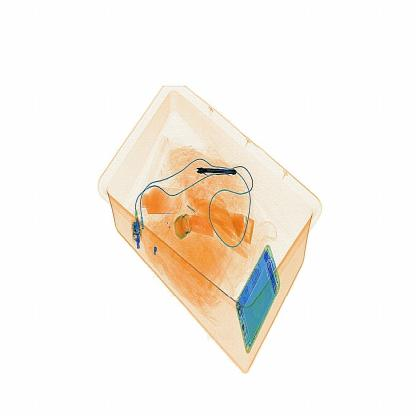knife: (188, 163, 248, 185)
